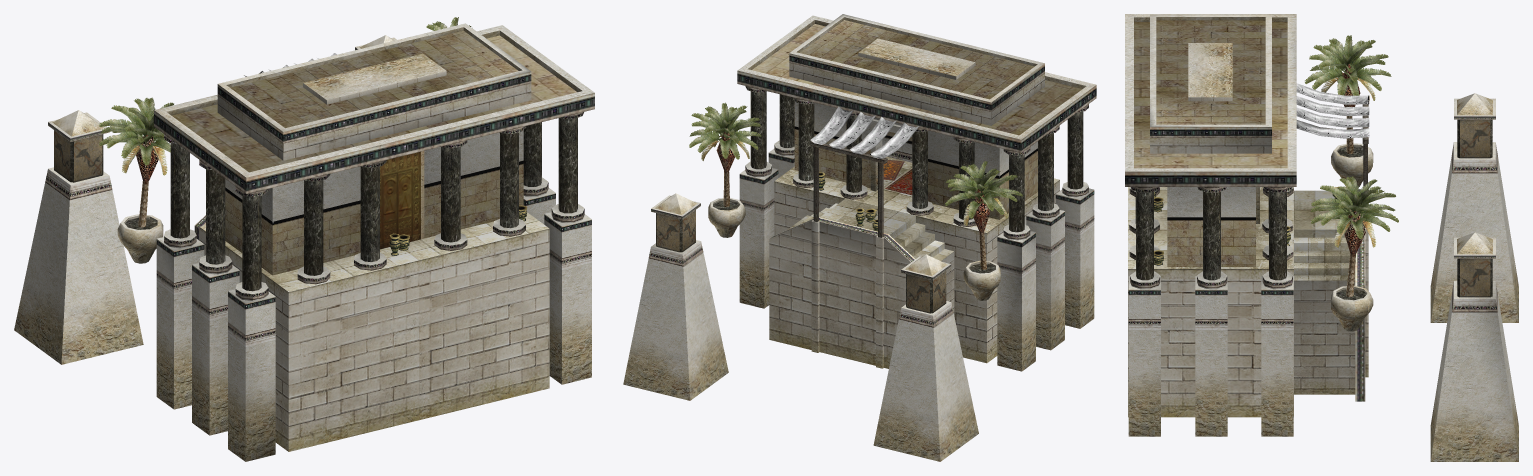
The model's file is cart_town_center.glb.
3 views of the same model, side by side, from view 1: azimuth 30°, elevation 25°; view 2: azimuth 150°, elevation 25°; view 3: azimuth 270°, elevation 25° (orthographic). The views are drawn at different scales.
Visible parts, largest first — view 1: cart_town_center_part0, cart_town_center_part2; view 2: cart_town_center_part0, cart_town_center_part2; view 3: cart_town_center_part0, cart_town_center_part2.
Boxes of the visible parts, box(x1,y1,x2,y2) form: cart_town_center_part0: box(14, 23, 594, 461); cart_town_center_part2: box(99, 17, 471, 227); cart_town_center_part0: box(623, 14, 1096, 461); cart_town_center_part2: box(689, 102, 1022, 269); cart_town_center_part0: box(1125, 14, 1518, 461); cart_town_center_part2: box(1305, 35, 1398, 296).
Size of the model in its own units: 6.2 by 4.88 by 5.73.
Materials: 6 (6 with a texture image).
